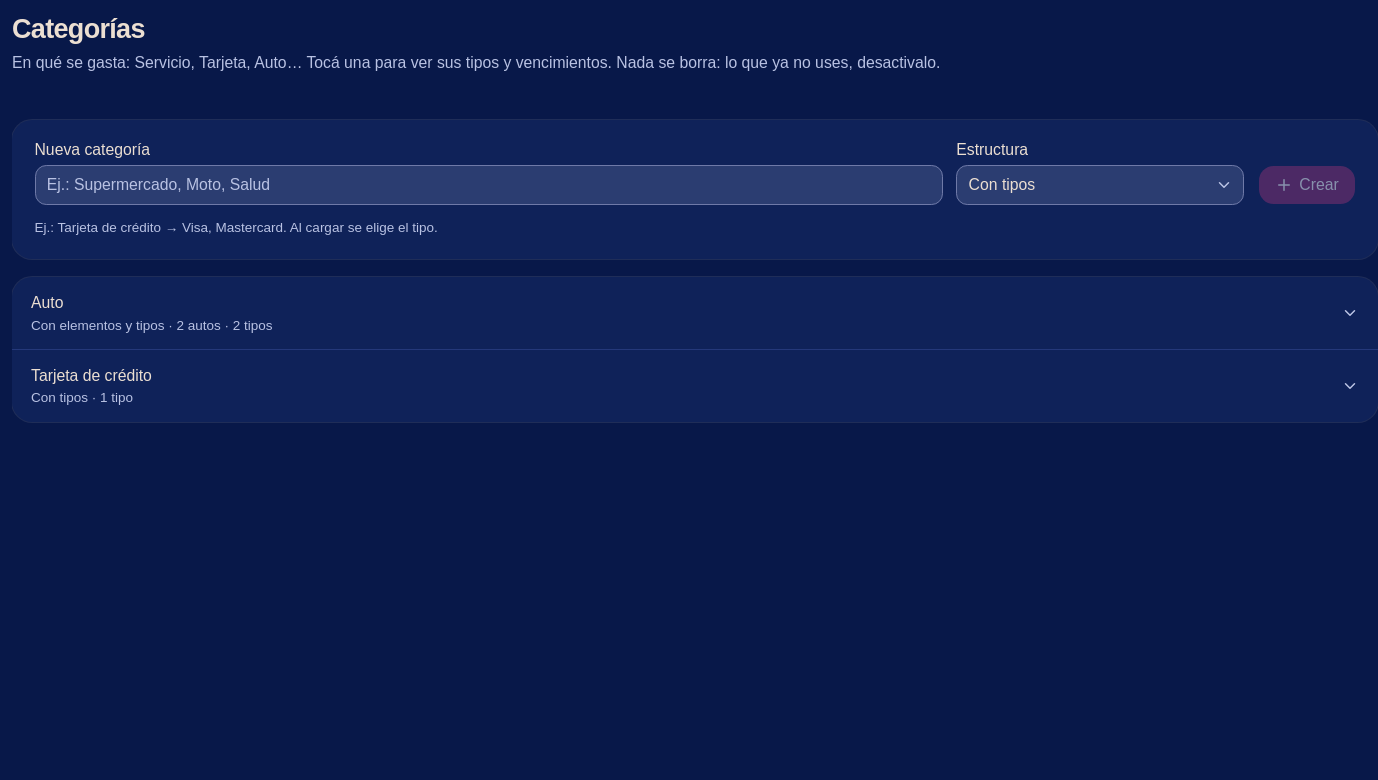
Administración de categorías › al desplegar muestra los autos y los tipos como etiquetas
Click the button "Auto Con elementos y tipos · 2 autos · 2 tipos".
click(47, 302)  # box x1=30 y1=278 x2=1360 y2=349
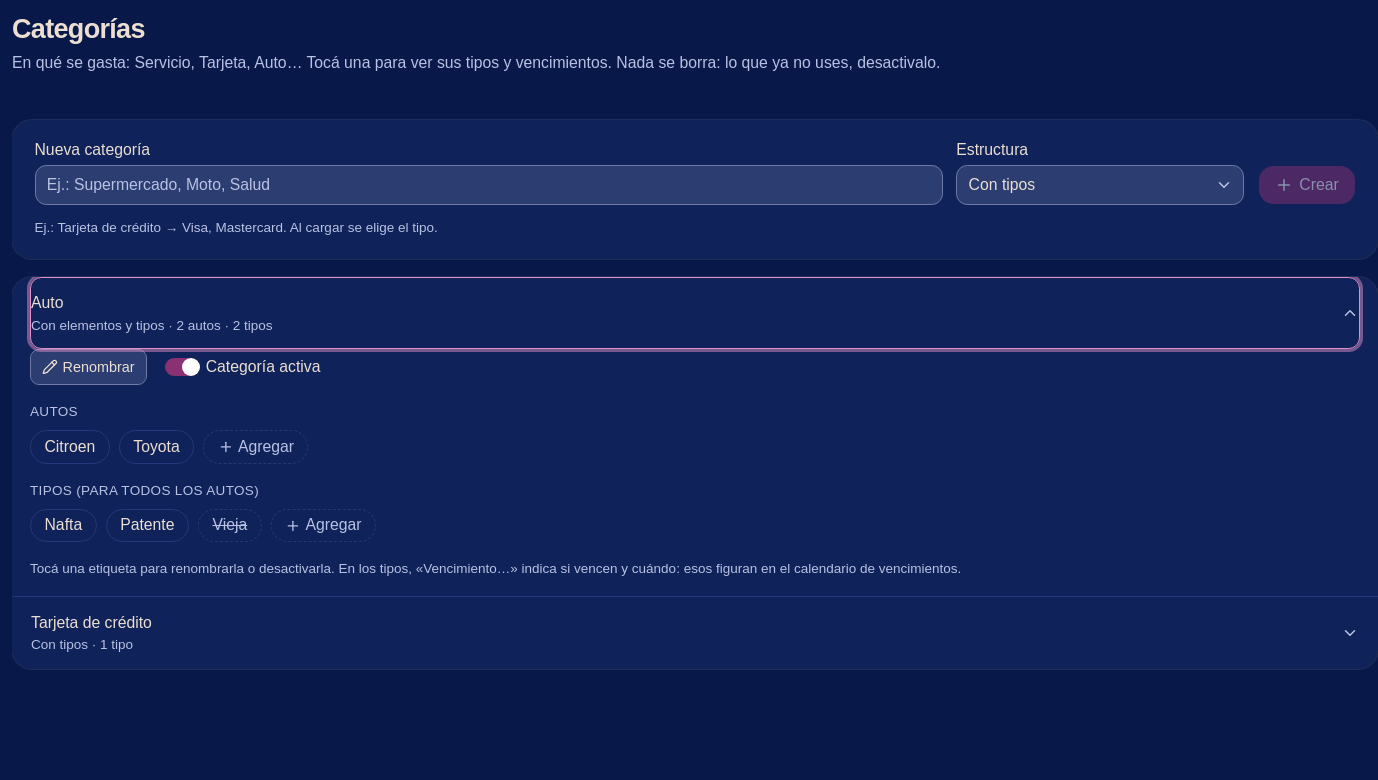
Now the button with aria-label "Citroen: opciones" is shown, box x1=30 y1=430 x2=110 y2=464
Now the button with aria-label "Nafta: opciones" is shown, box x1=30 y1=509 x2=97 y2=542
Now the button with aria-label "Vieja (desactivado): opciones" is shown, box x1=198 y1=509 x2=262 y2=542
